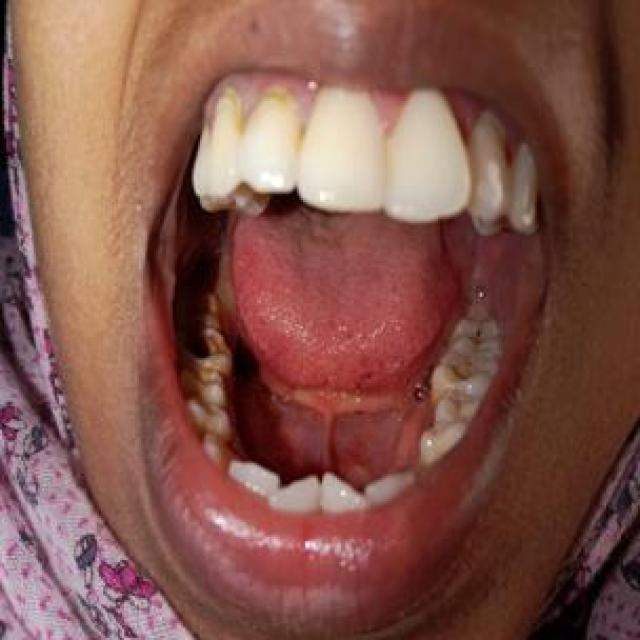processing_area: (220, 210, 544, 480)
